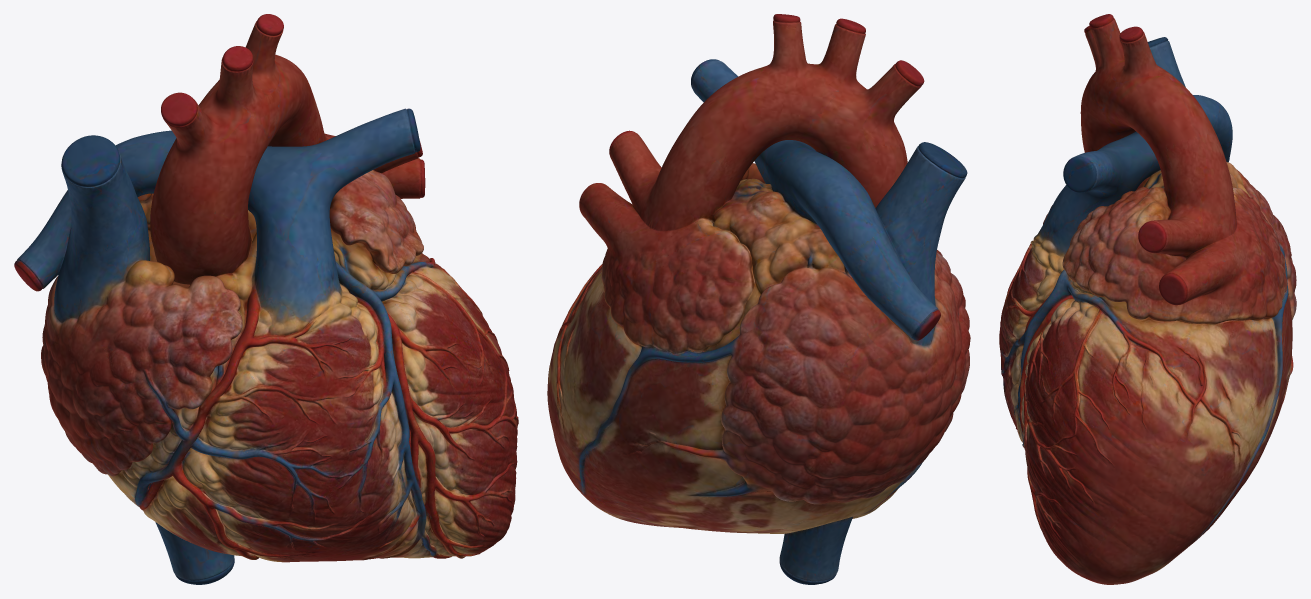
The model's file is heart.glb.
The picture shows the model from 3 angles, left to right: view 1: azimuth 30°, elevation 25°; view 2: azimuth 150°, elevation 25°; view 3: azimuth 270°, elevation 25°; orthographic projection. The views are drawn at different scales.
Parts seen in each view (by area): view 1: human-heart; view 2: human-heart; view 3: human-heart.
Part boxes in pixels (box(x1,y1,x2,y2)): human-heart: box(14, 14, 518, 584); human-heart: box(547, 14, 970, 584); human-heart: box(999, 14, 1296, 584).
Bounding box in the file's own units: 0.0983 × 0.1211 × 0.0687.
Materials: 1 (1 with a texture image).
